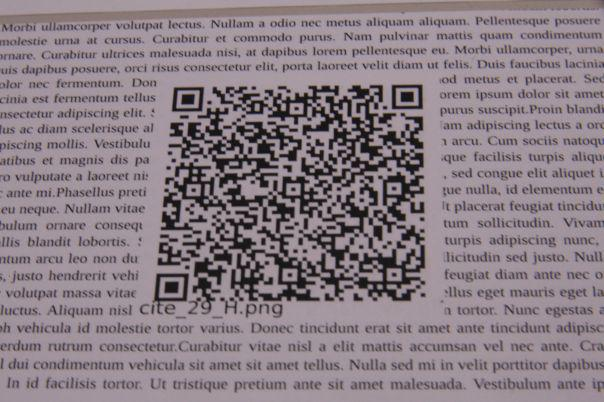Finder pattern: (153, 271, 191, 304), (388, 81, 425, 112), (169, 86, 205, 114)
